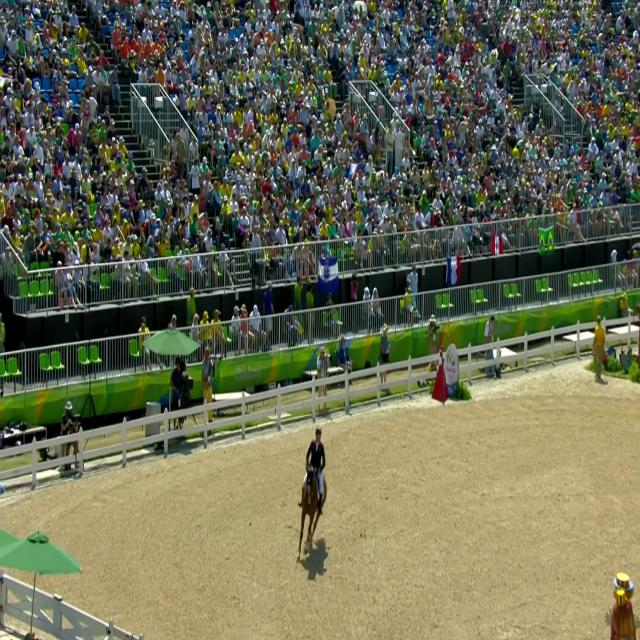Horse Running: (296, 437, 335, 585)
